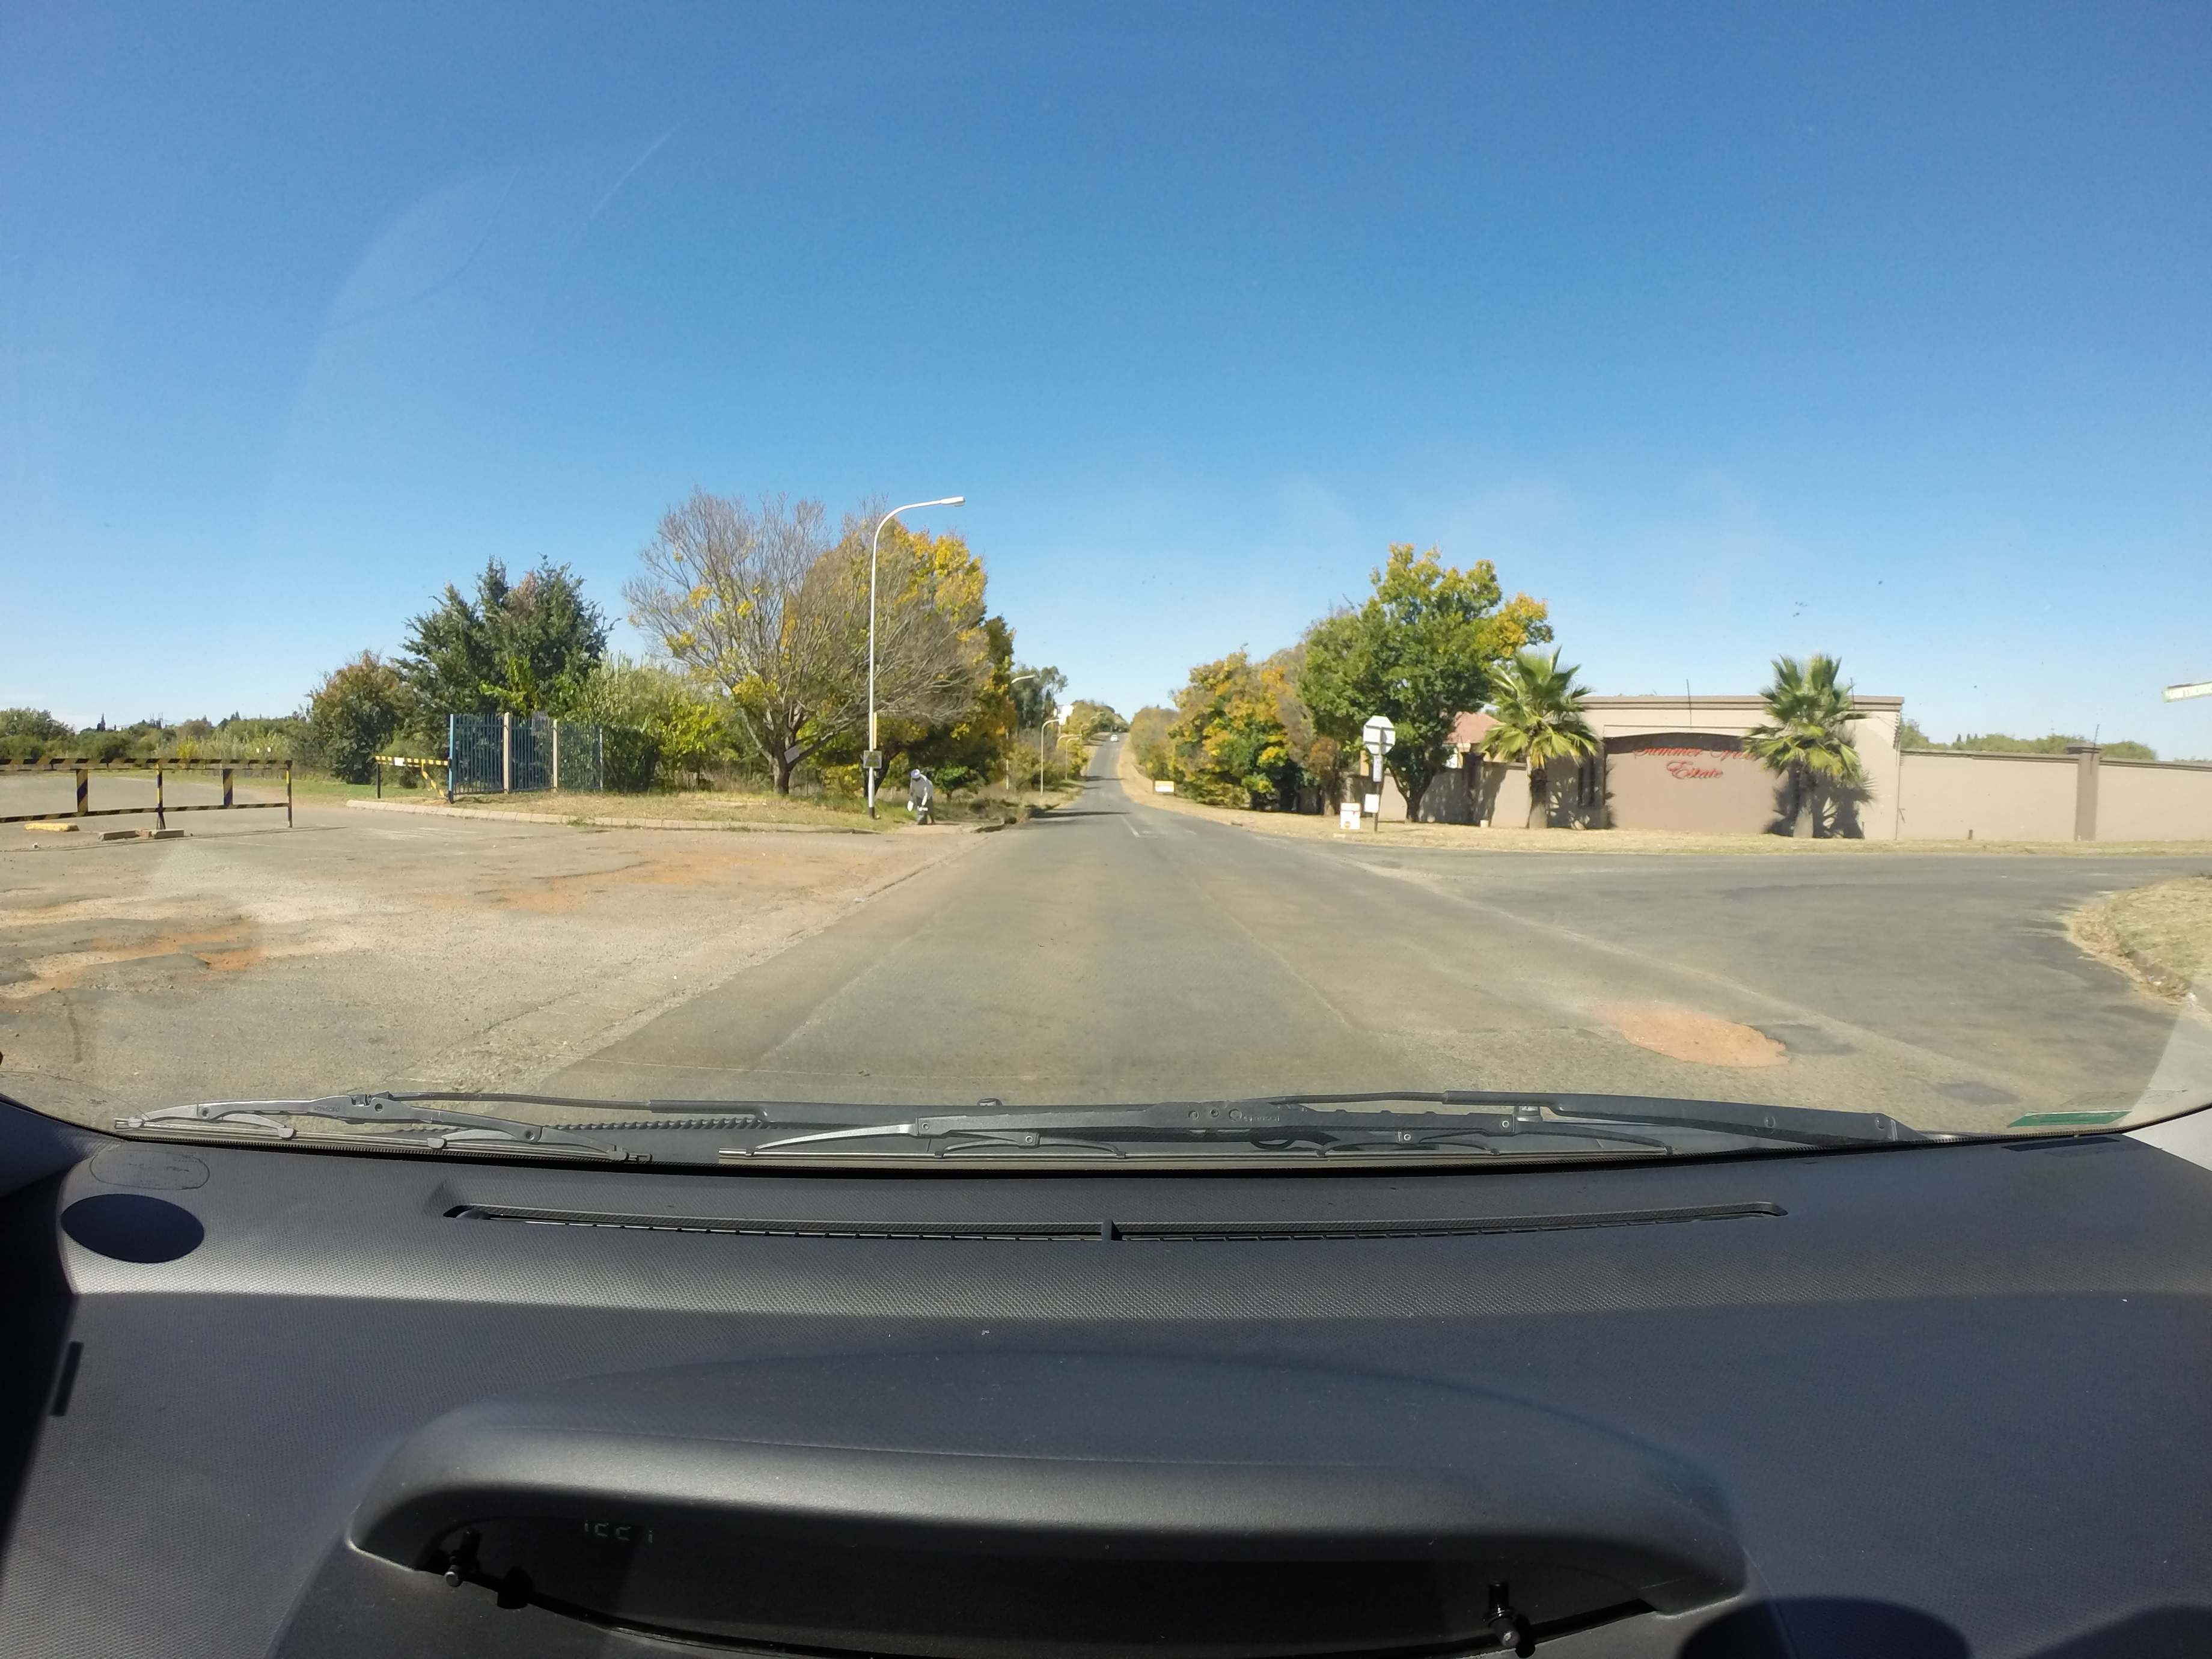pothole: (1620, 1014, 1806, 1073)
